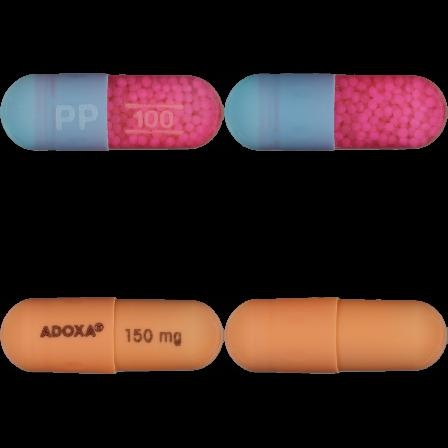10147-1700: (0, 0, 224, 224)
